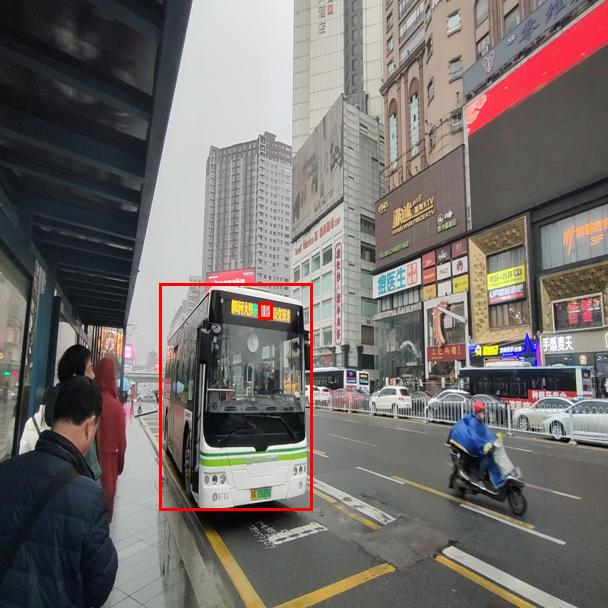bus: (159, 283, 312, 510)
screen: (258, 302, 272, 319)
